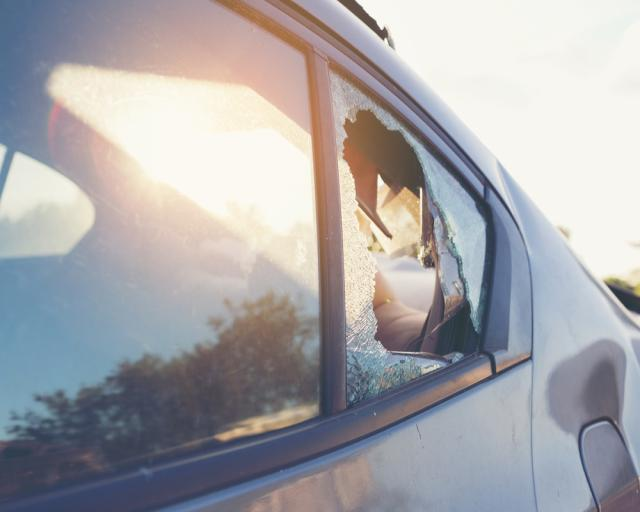glass shatter: (327, 63, 492, 409)
